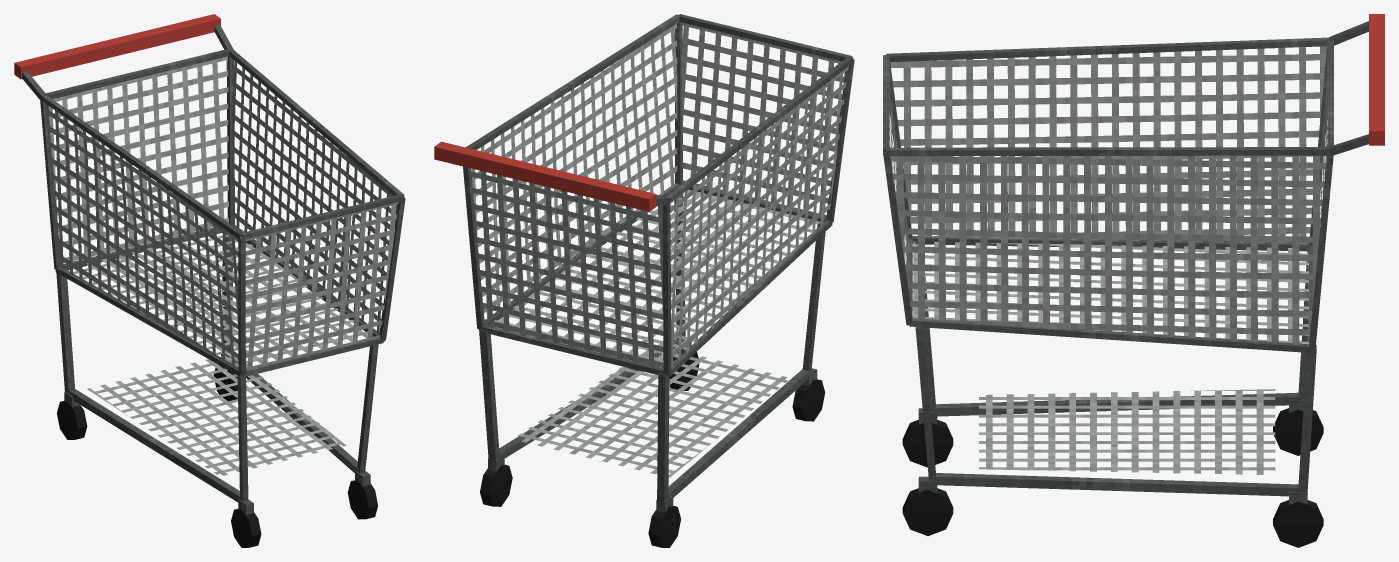
Rendered from shopping_cart.glb.
3 renders of one model, left to right at view 1: azimuth 30°, elevation 25°; view 2: azimuth 150°, elevation 25°; view 3: azimuth 270°, elevation 25°, orthographic. The views are drawn at different scales.
Visible parts, largest first — view 1: ShoppingCart; view 2: ShoppingCart; view 3: ShoppingCart.
Part boxes in pixels (bbox=[...]): ShoppingCart: bbox=[14, 14, 405, 547]; ShoppingCart: bbox=[434, 14, 854, 547]; ShoppingCart: bbox=[883, 14, 1384, 547].
Bounding box in the file's own units: 0.6 × 1.02 × 1.08.
Materials: 4 (3 with a texture image).
